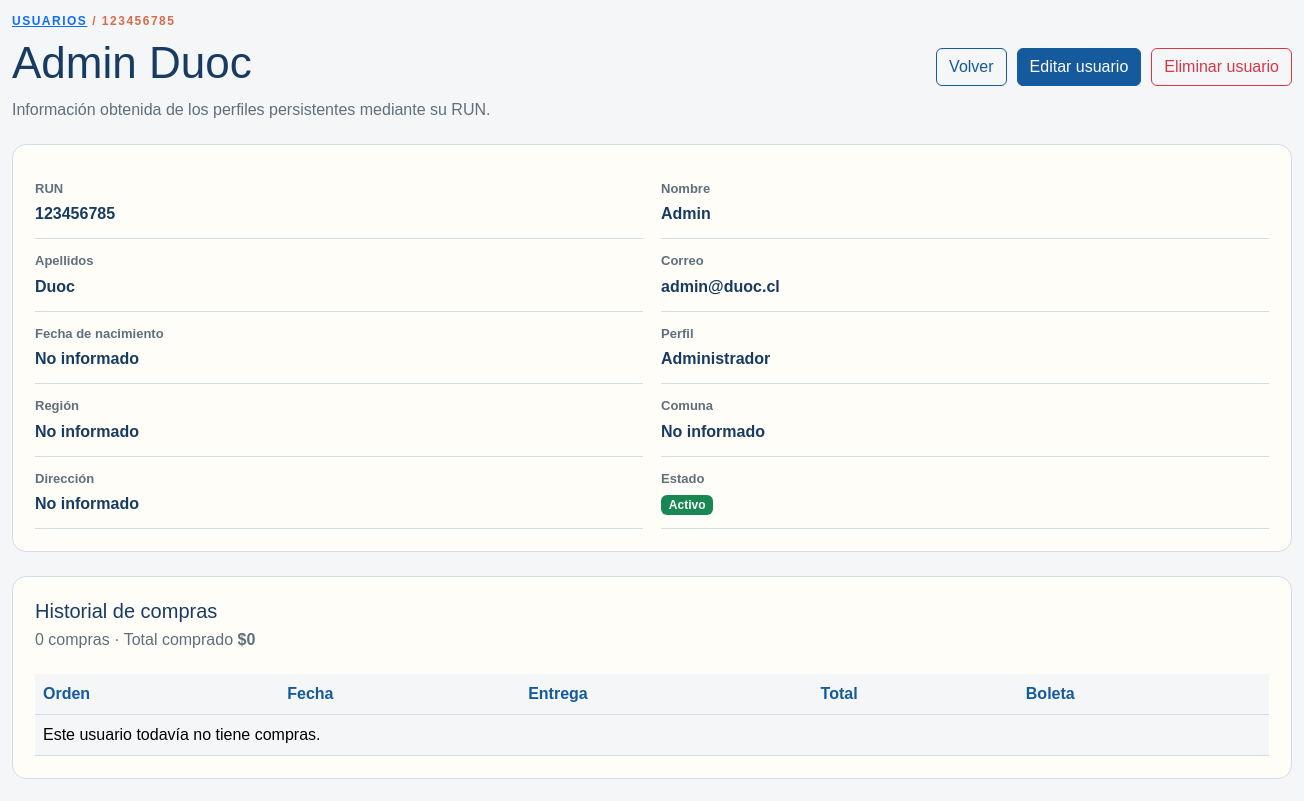
Test: AdminUsuarioDetalleContainer › no permite eliminar al último administrador
Click the button "Eliminar usuario" at x=1222, y=67, box [1151,48,1292,86]
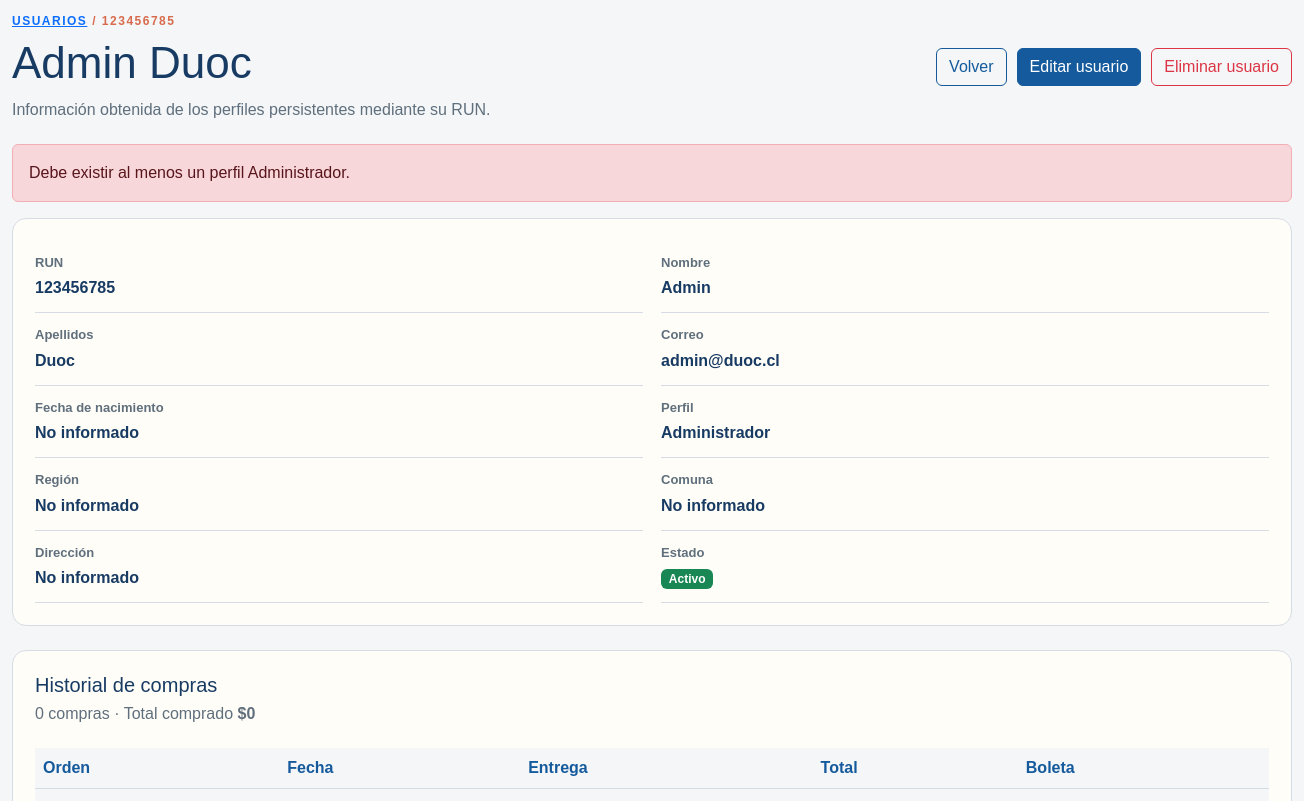
Expected: the message reads "Debe existir al menos un perfil Administrador.", [29,164,350,181]
